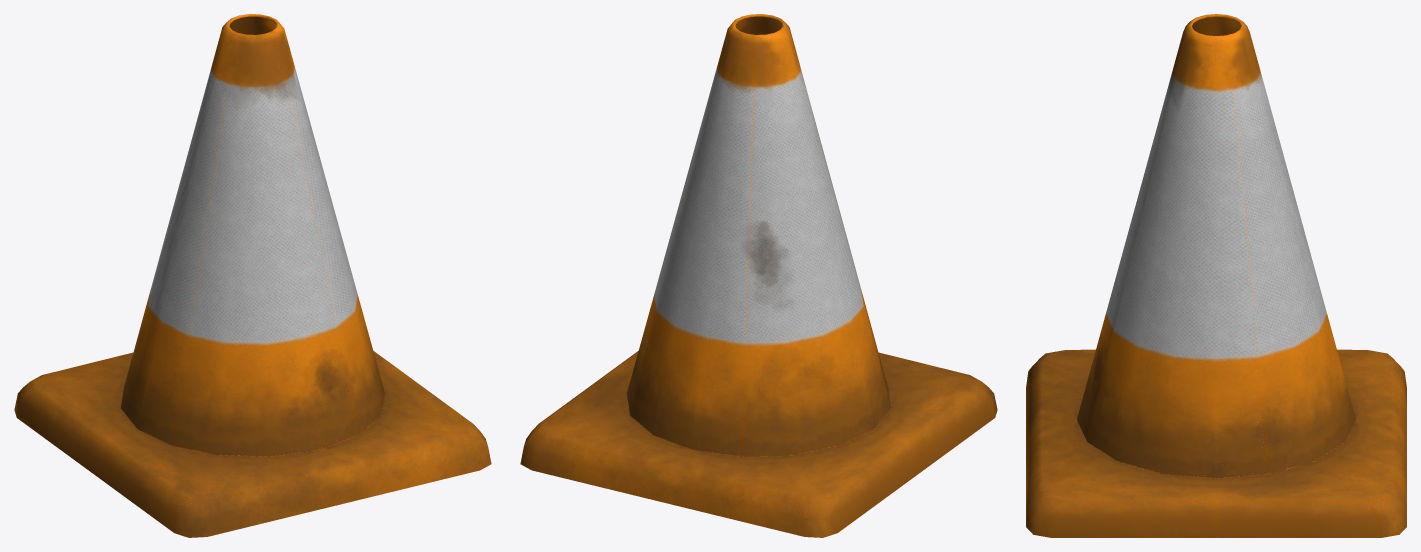
The picture shows the model from 3 angles, left to right: view 1: azimuth 30°, elevation 25°; view 2: azimuth 150°, elevation 25°; view 3: azimuth 270°, elevation 25°; orthographic projection. The views are drawn at different scales.
Parts seen in each view (by area): view 1: Cone; view 2: Cone; view 3: Cone.
Boxes of the visible parts, x1,y1,x2,y2 form: Cone: [14, 14, 491, 537]; Cone: [520, 14, 997, 537]; Cone: [1026, 14, 1406, 537].
Size of the model in its own units: 0.2615 by 0.3275 by 0.2615.
1 material, 1 textured.
